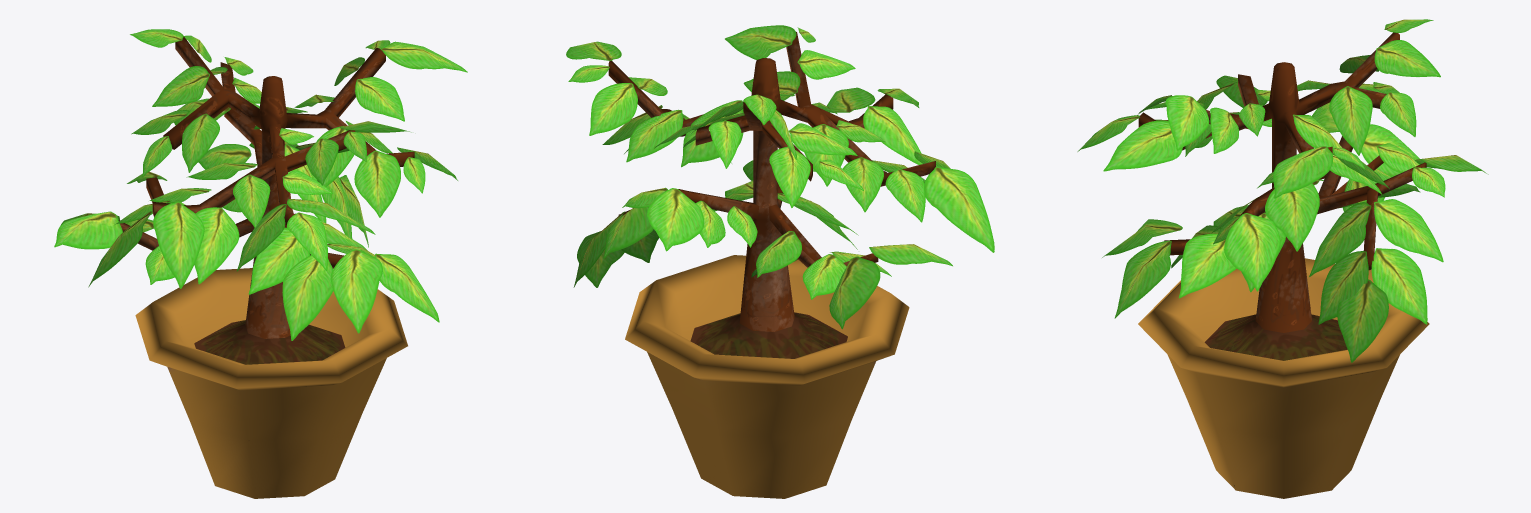
The model's file is FlowerPot.fbx.
3 views of the same model, side by side, from view 1: azimuth 30°, elevation 25°; view 2: azimuth 150°, elevation 25°; view 3: azimuth 270°, elevation 25° (orthographic). The views are drawn at different scales.
Parts seen in each view (by area): view 1: polySurface1, polySurface2; view 2: polySurface1, polySurface2; view 3: polySurface1, polySurface2.
Boxes of the visible parts, box(x1,y1,x2,y2) form: polySurface1: box(118, 36, 414, 498); polySurface2: box(54, 29, 467, 340); polySurface1: box(608, 32, 935, 498); polySurface2: box(566, 25, 994, 329); polySurface1: box(1138, 32, 1429, 498); polySurface2: box(1077, 19, 1488, 362).
Size of the model in its own units: 2.95 by 2.66 by 2.54.
